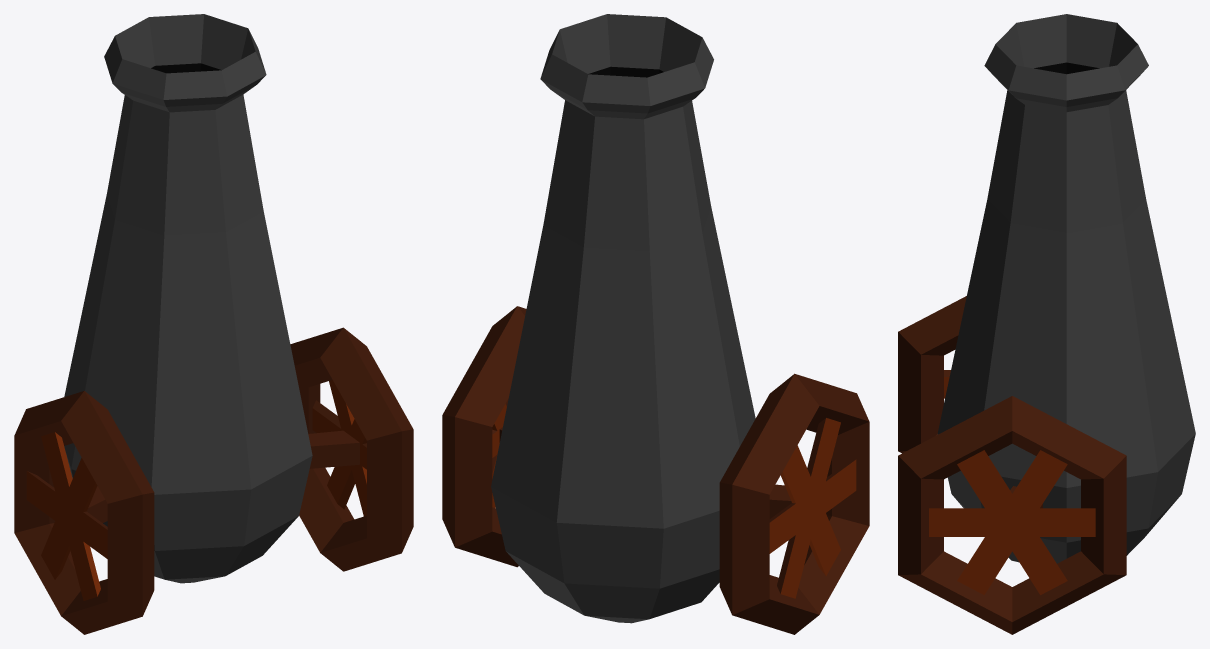
The model's file is cannon.fbx.
The picture shows the model from 3 angles, left to right: view 1: azimuth 30°, elevation 25°; view 2: azimuth 150°, elevation 25°; view 3: azimuth 270°, elevation 25°; orthographic projection. The views are drawn at different scales.
Parts seen in each view (by area): view 1: cannon; view 2: cannon; view 3: cannon.
Boxes of the visible parts, x1,y1,x2,y2 form: cannon: (14,14,413,634); cannon: (442,14,869,634); cannon: (898,14,1195,634).
Size of the model in its own units: 102 by 171 by 87.55.
